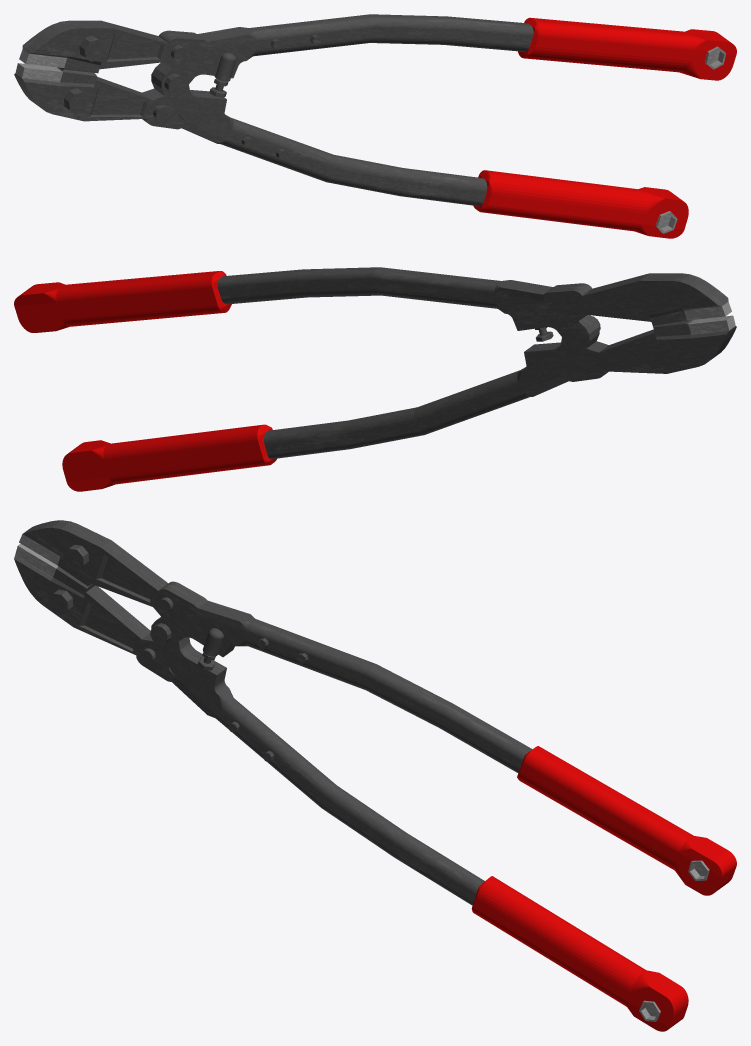
The model's file is Boltcutters.glb.
3 views of the same model, one above another, from view 1: azimuth 30°, elevation 25°; view 2: azimuth 150°, elevation 25°; view 3: azimuth 330°, elevation 25° (orthographic).
Parts seen in each view (by area): view 1: Cube.002; view 2: Cube.002; view 3: Cube.002.
Boxes of the visible parts, x1,y1,x2,y2 form: Cube.002: (14, 14, 736, 238); Cube.002: (14, 267, 736, 491); Cube.002: (14, 520, 736, 1031).
Size of the model in its own units: 3.74 by 1.78 by 0.1675.
1 material, 1 textured.
